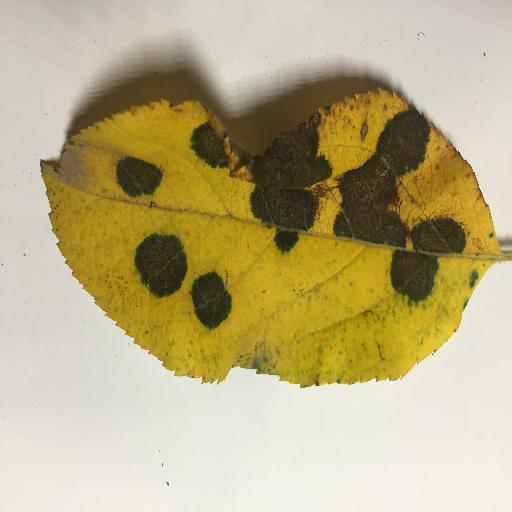Brown_Spot: (337, 115, 407, 250), (239, 139, 322, 252), (402, 221, 450, 297), (139, 237, 181, 292), (191, 272, 230, 324)
